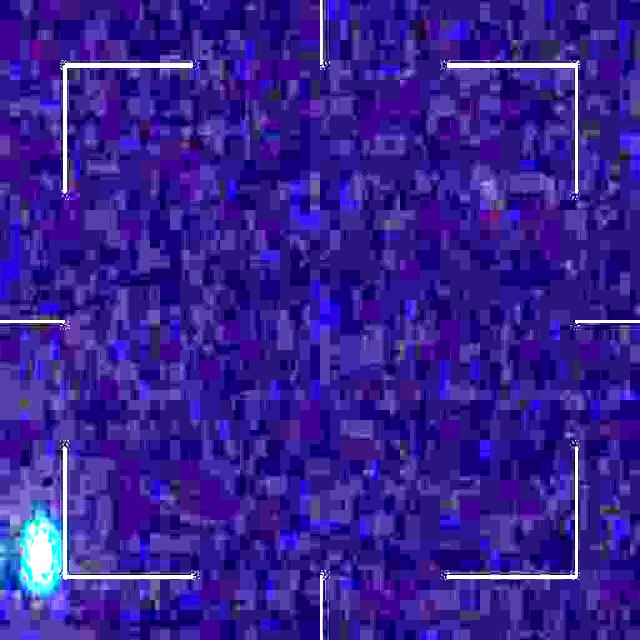bird: (0, 530, 58, 581)
